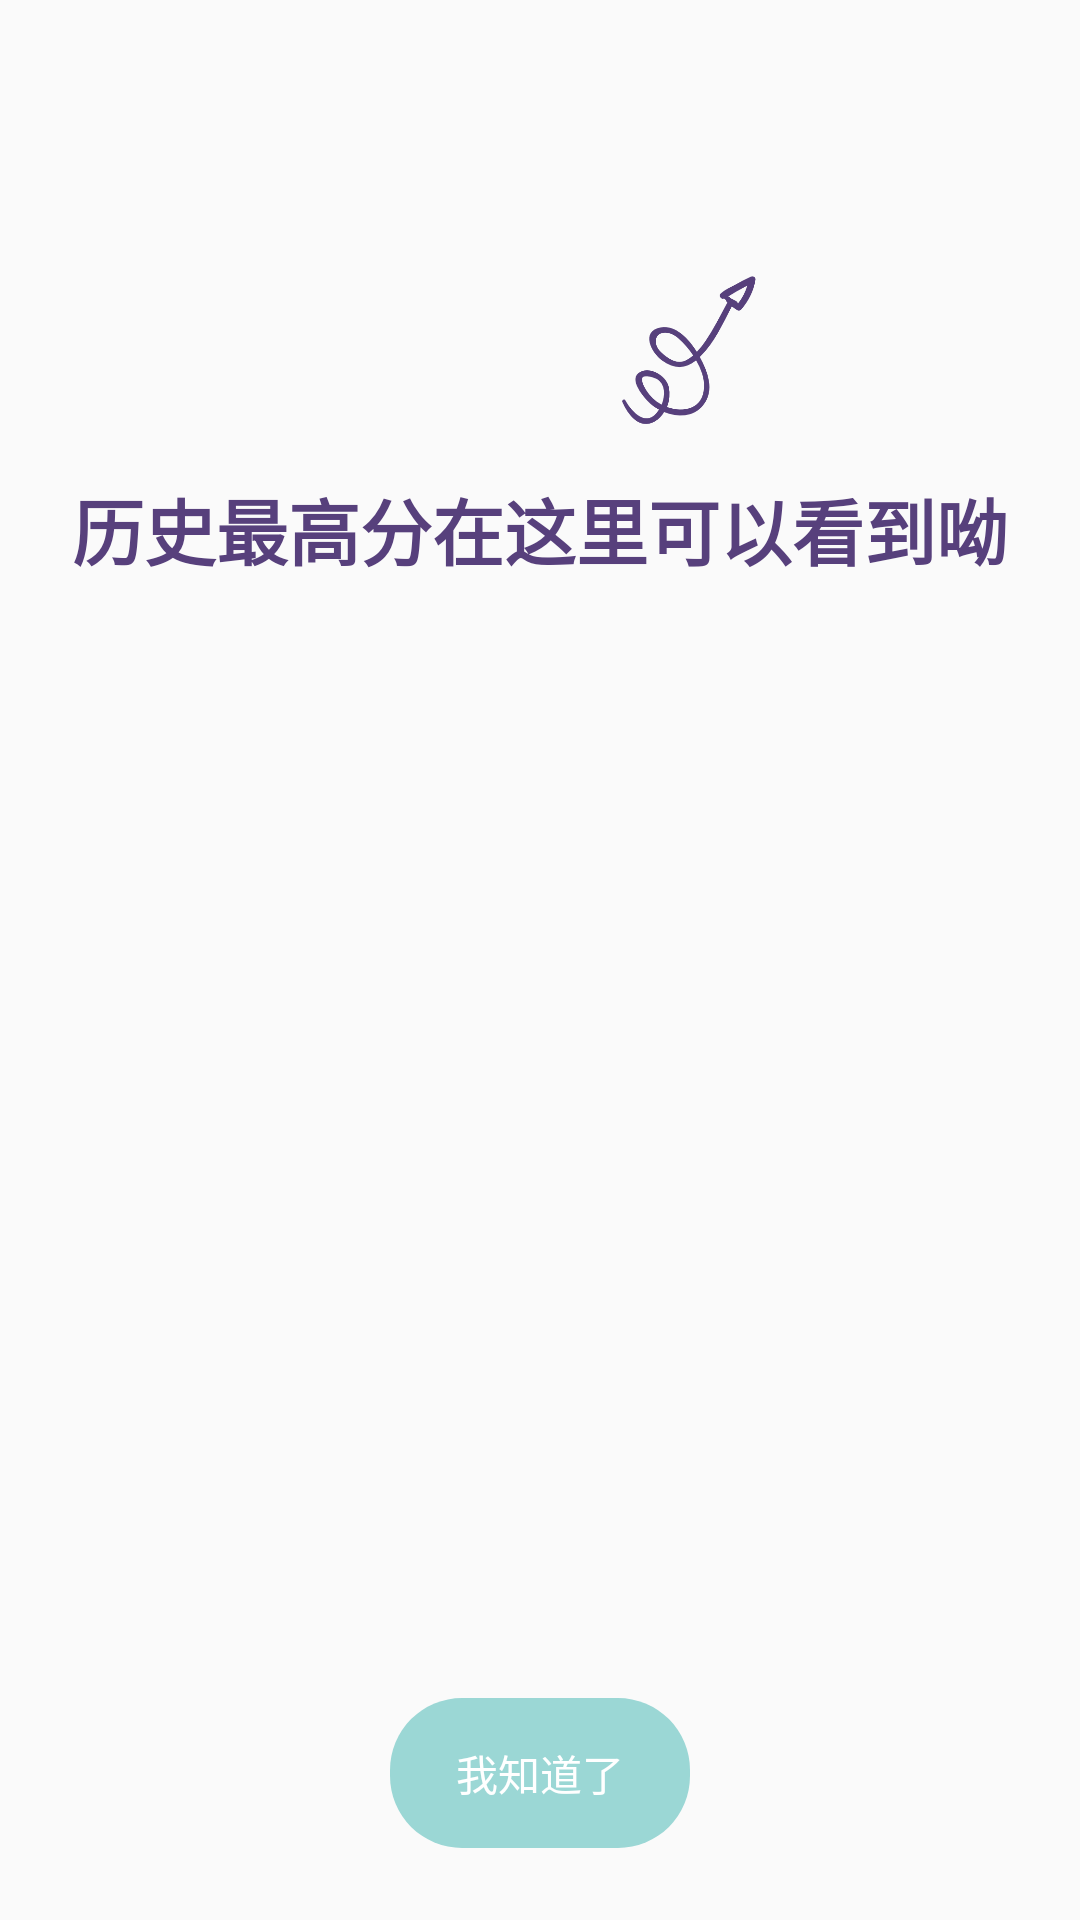

Icons on this 1080*1920 Android screen, each with its box as (x1, y1, x2, y2):
arrow: (622, 276, 756, 424)
